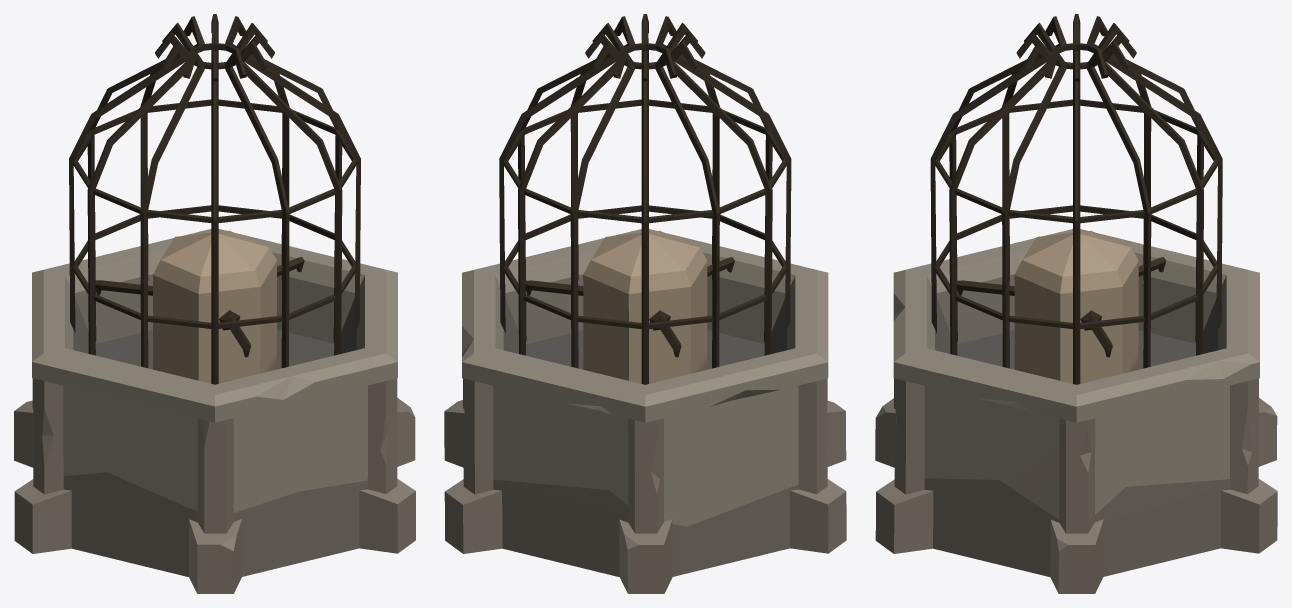
File: SM_Bld_Fountain_Spring_02.glb
3 views of the same model, side by side, from view 1: azimuth 30°, elevation 25°; view 2: azimuth 150°, elevation 25°; view 3: azimuth 270°, elevation 25° (orthographic).
Parts seen in each view (by area): view 1: SM_Bld_Fountain_Spring_02; view 2: SM_Bld_Fountain_Spring_02; view 3: SM_Bld_Fountain_Spring_02.
Part boxes in pixels (x1=…): SM_Bld_Fountain_Spring_02: x1=14, y1=14, x2=415, y2=593; SM_Bld_Fountain_Spring_02: x1=444, y1=14, x2=846, y2=593; SM_Bld_Fountain_Spring_02: x1=875, y1=14, x2=1277, y2=593.
Bounding box in the file's own units: 2.38 × 2.77 × 2.16.
1 material, 1 textured.
